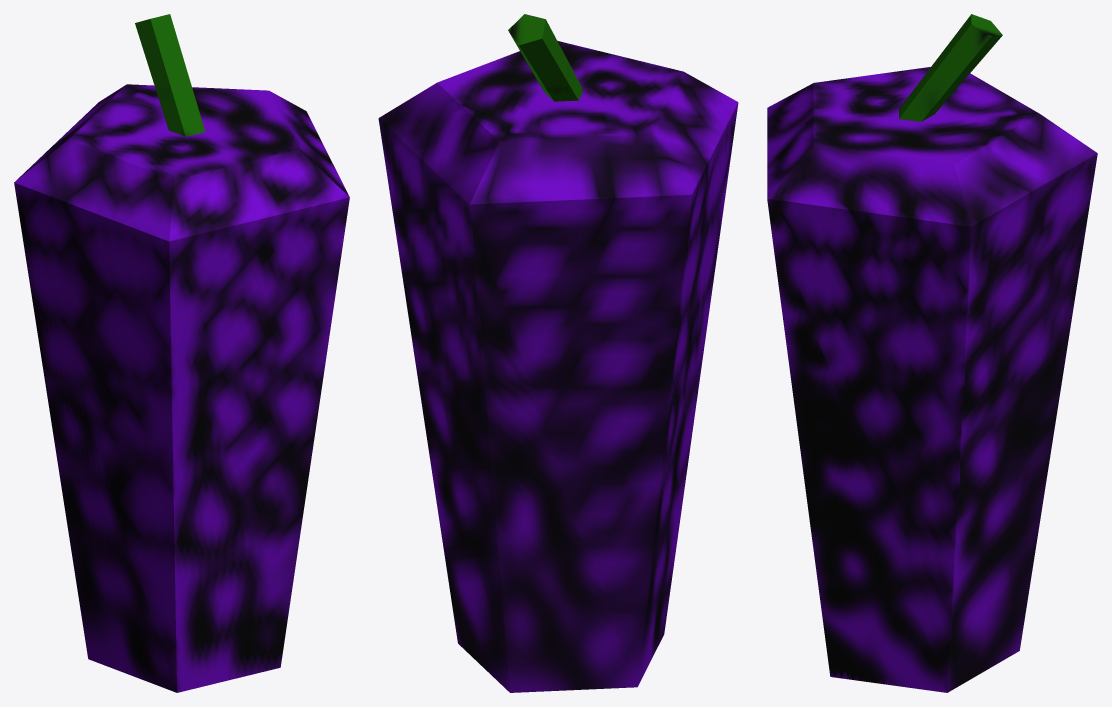
Rendered from vinograd.fbx.
The picture shows the model from 3 angles, left to right: view 1: azimuth 30°, elevation 25°; view 2: azimuth 150°, elevation 25°; view 3: azimuth 270°, elevation 25°; orthographic projection. The views are drawn at different scales.
Parts seen in each view (by area): view 1: vinograd; view 2: vinograd; view 3: vinograd.
Part boxes in pixels (left/top/right/bottom): vinograd: left=14, top=14, right=349, bottom=692; vinograd: left=378, top=14, right=738, bottom=692; vinograd: left=767, top=14, right=1097, bottom=692.
Size of the model in its own units: 332 by 666 by 316.
